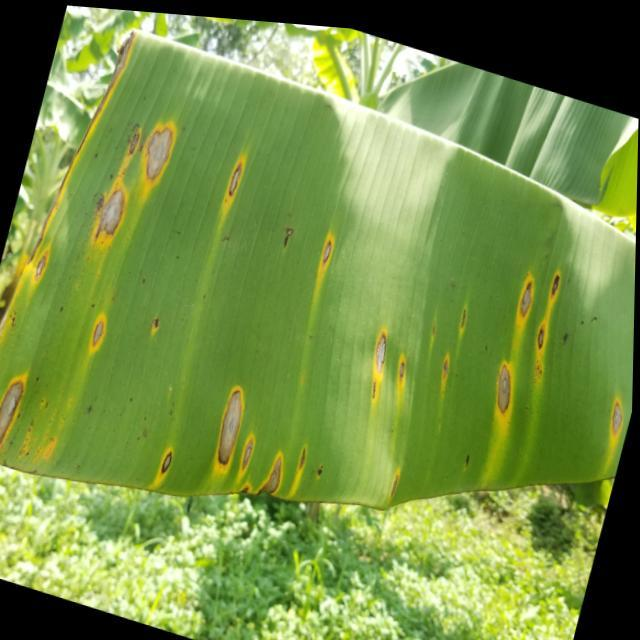Early_rust: (0, 26, 640, 518)
